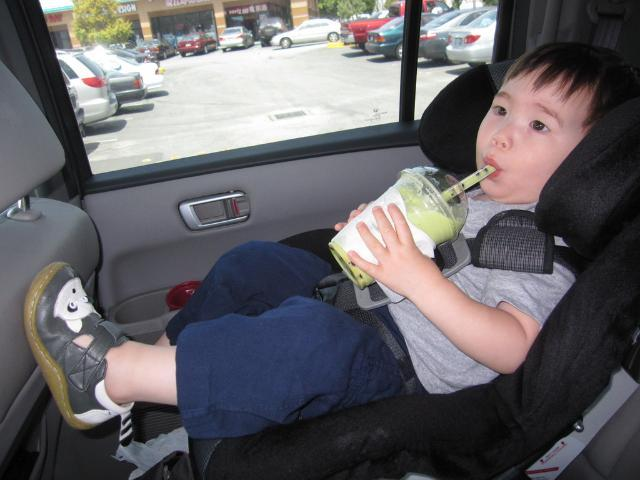SafeDriving: (522, 109, 558, 139), (486, 96, 516, 123)
Seatbelt: (307, 214, 577, 394), (592, 14, 626, 48)
